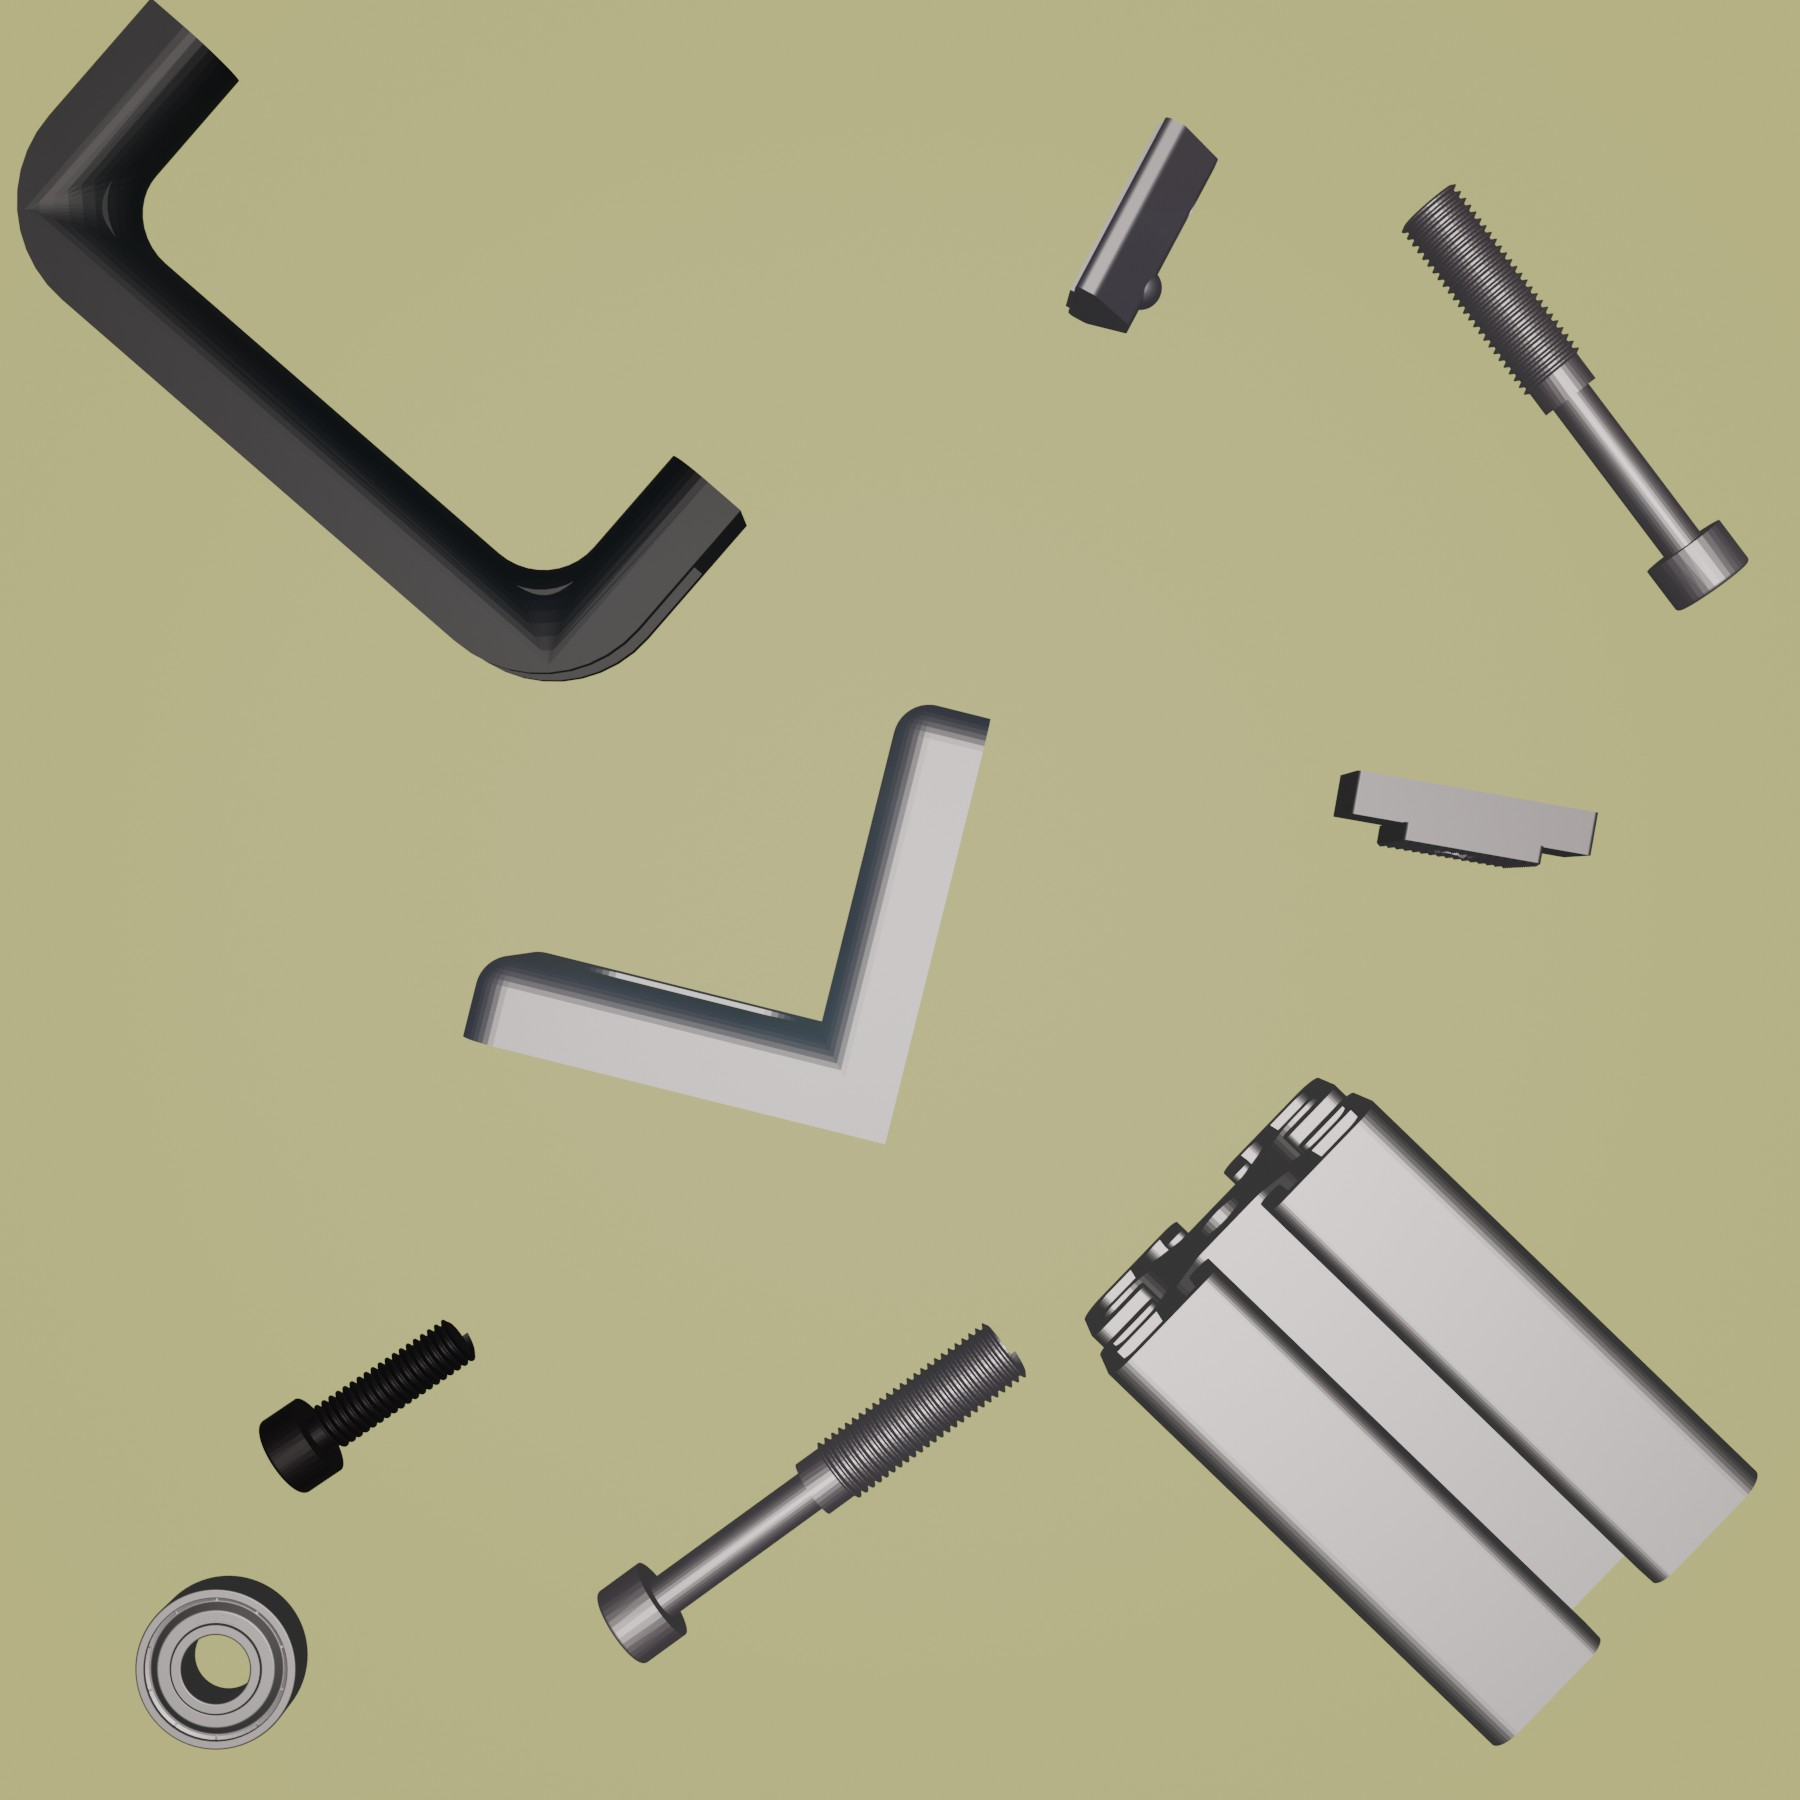Aluminium Extension: (1086, 1076, 1760, 1749)
Ball Bearing: (134, 1573, 308, 1752)
Multiwinkel: (458, 702, 992, 1149)
Pull Handle: (13, 2, 750, 684)
Shoulder Socket Head Cap Screw: (1401, 181, 1752, 612), (597, 1320, 1029, 1666)
Socket Head Cap Screw: (255, 1315, 476, 1495)
T Nut Square: (1329, 765, 1601, 874)
T Spring Nut: (1063, 112, 1220, 336)
